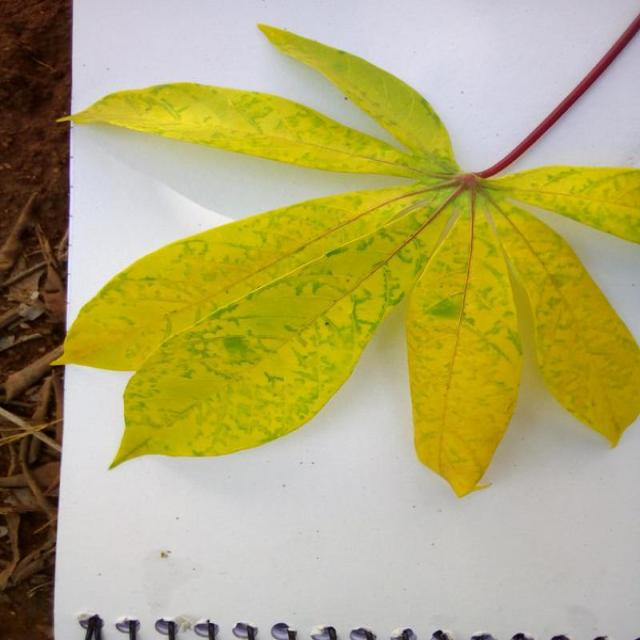cassava leaf: (53, 15, 640, 497)
